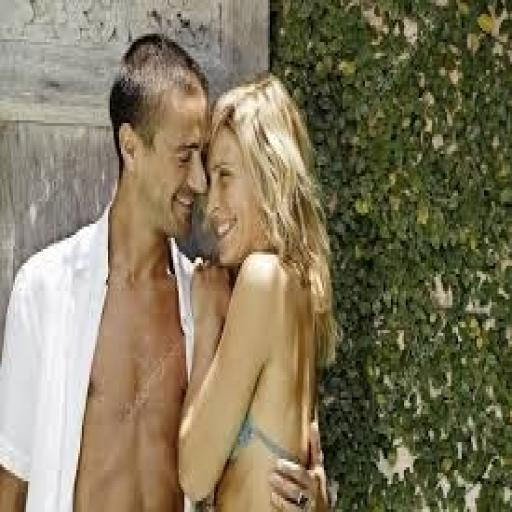hugging: (0, 31, 339, 509), (175, 70, 337, 509)
